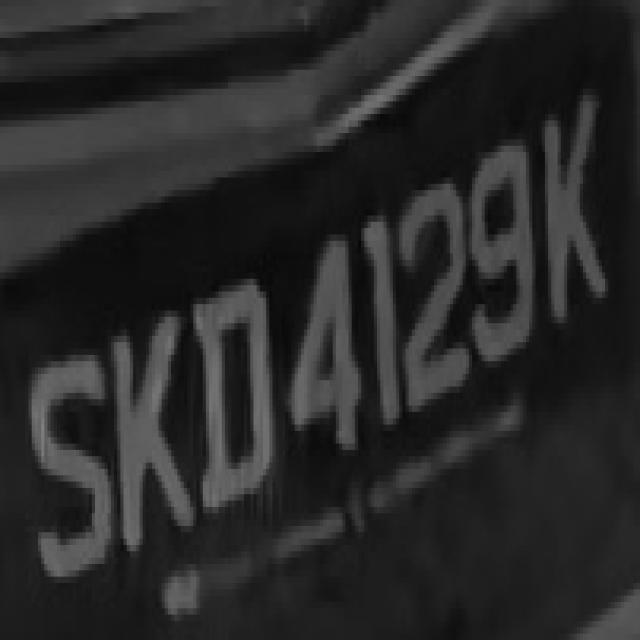1: (361, 196, 406, 456)
2: (393, 178, 475, 438)
4: (276, 228, 368, 463)
9: (466, 127, 538, 393)
D: (187, 272, 279, 532)
K: (105, 304, 196, 570), (538, 82, 614, 336)
S: (25, 336, 111, 589)
